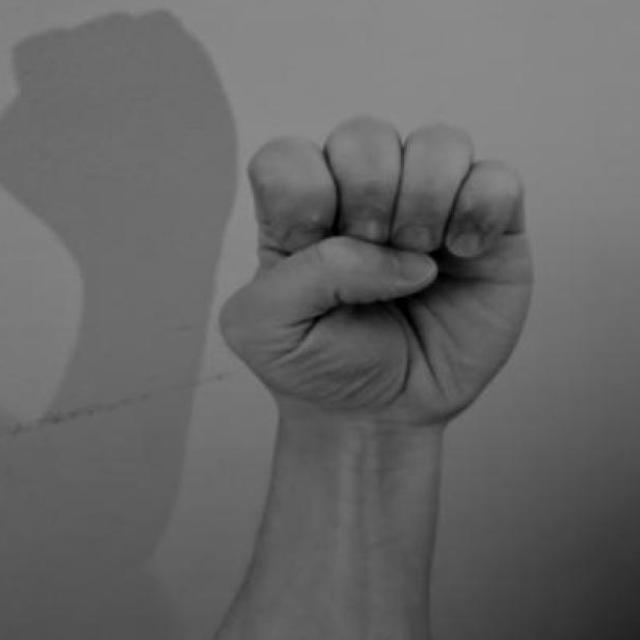E: (193, 92, 554, 463)
